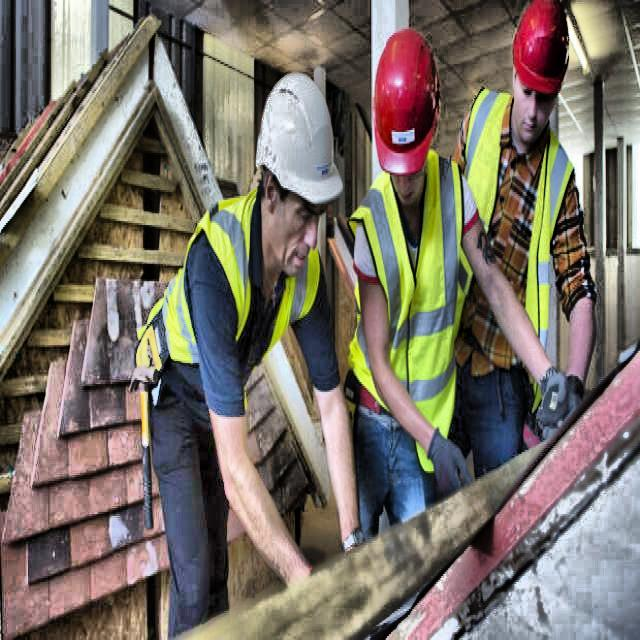person: (132, 60, 365, 640), (344, 16, 499, 576), (471, 0, 604, 471)
